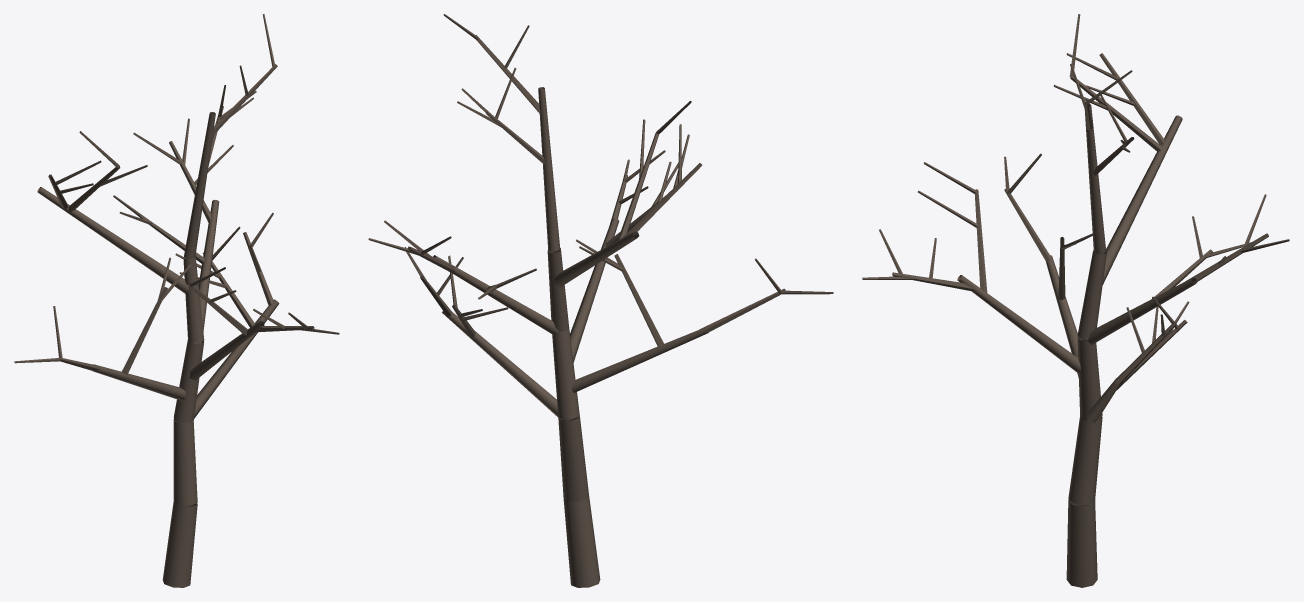
The model's file is ZR_TreeBare.fbx.
3 views of the same model, side by side, from view 1: azimuth 30°, elevation 25°; view 2: azimuth 150°, elevation 25°; view 3: azimuth 270°, elevation 25° (orthographic). The views are drawn at different scales.
Parts seen in each view (by area): view 1: ZR_TreeBare; view 2: ZR_TreeBare; view 3: ZR_TreeBare.
Part boxes in pixels (x1,y1,x2,y2): ZR_TreeBare: (14, 14, 339, 587); ZR_TreeBare: (368, 14, 833, 587); ZR_TreeBare: (862, 14, 1289, 587).
Bounding box in the file's own units: 4.79 × 7.27 × 4.95.
